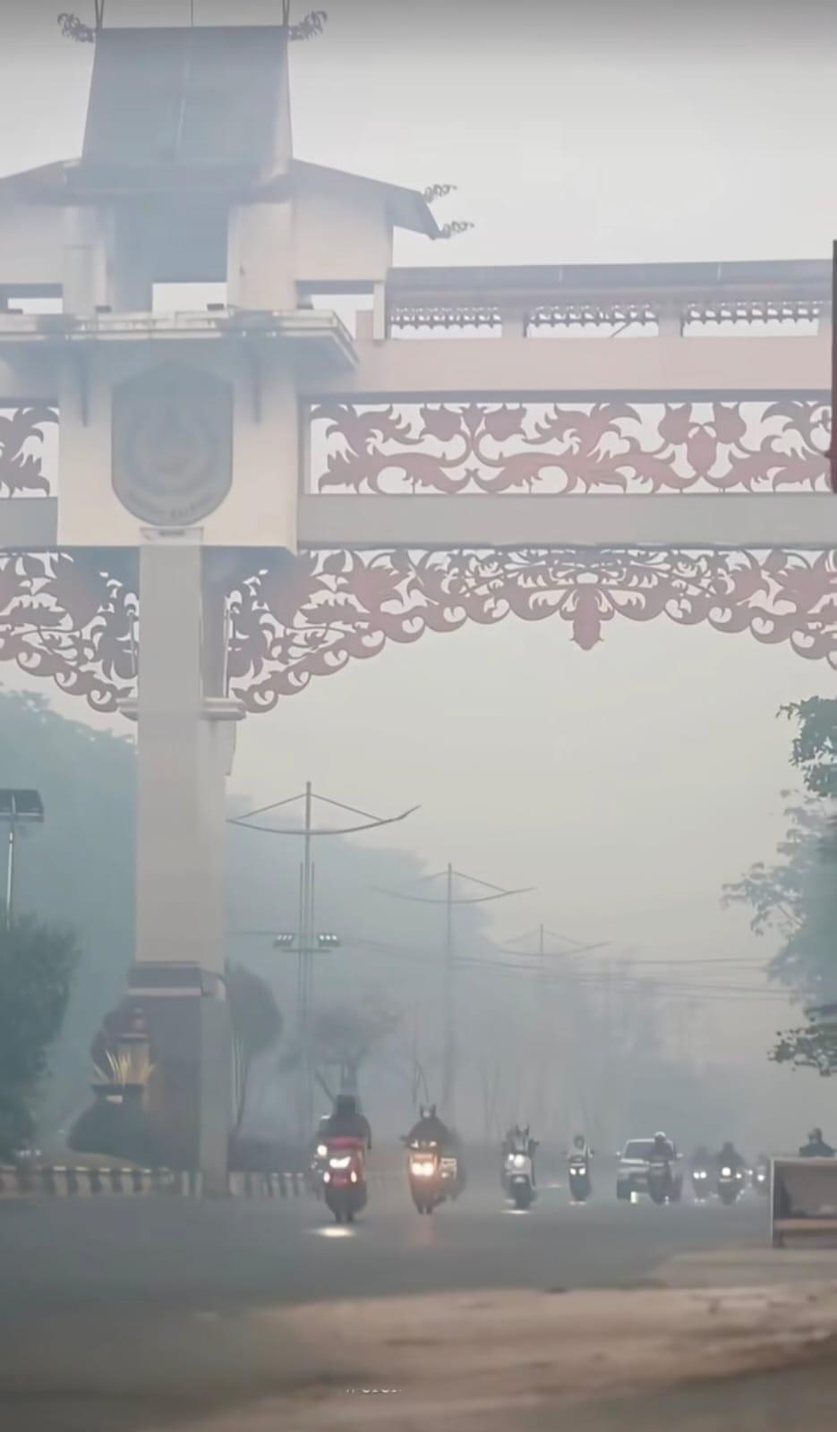Deteksi-Objek-Citra-Berasap: (0, 0, 837, 1241)
Kendaraan: (311, 1130, 371, 1226), (404, 1132, 465, 1216), (613, 1137, 670, 1205), (500, 1147, 541, 1211), (644, 1149, 685, 1206), (715, 1160, 750, 1206), (565, 1155, 593, 1205), (685, 1164, 716, 1203)
Manusia: (315, 1094, 372, 1169), (397, 1103, 461, 1167), (502, 1124, 540, 1178), (645, 1129, 680, 1184), (714, 1141, 748, 1182), (563, 1135, 594, 1175), (799, 1128, 835, 1157)
Vegetasi: (0, 691, 136, 1170), (717, 695, 836, 1088), (228, 962, 282, 1144)
